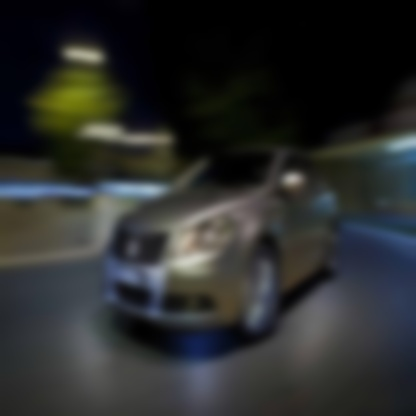Vehicle: (101, 130, 340, 335)
